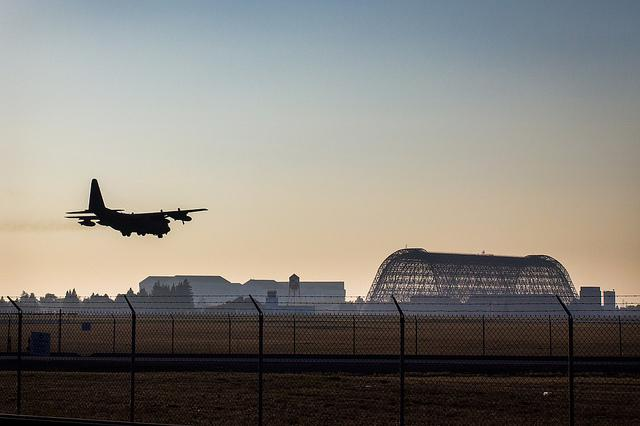airplane: (64, 177, 210, 240)
